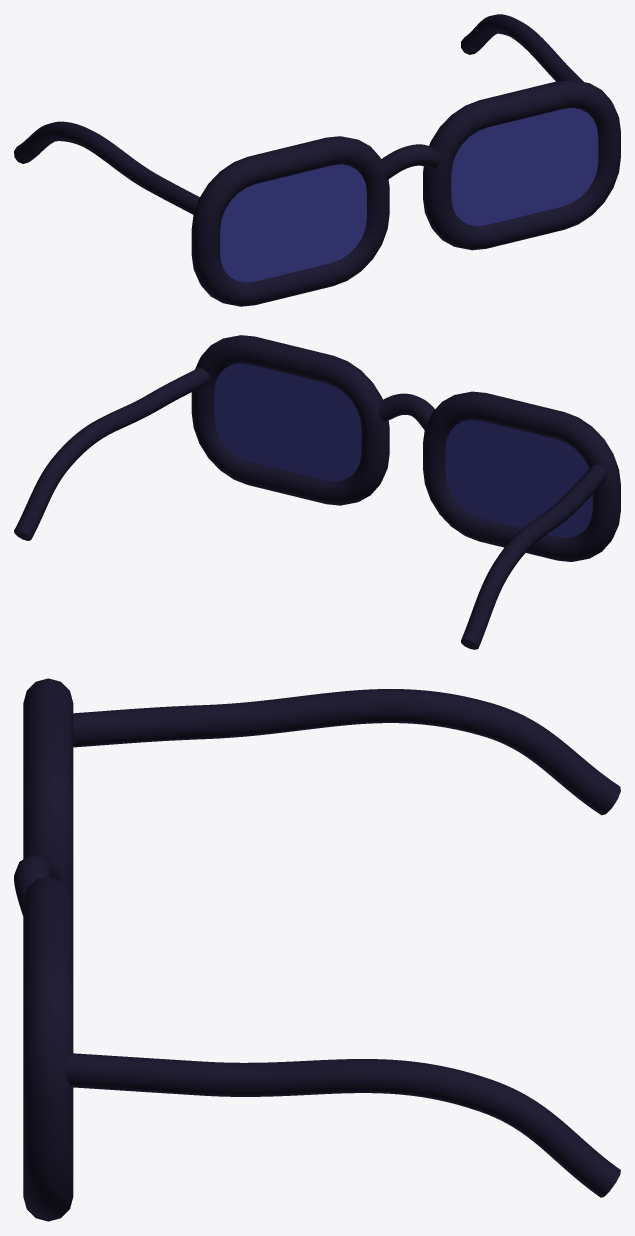
Rendered from glasses.glb.
3 renders of one model, top to bottom at view 1: azimuth 30°, elevation 25°; view 2: azimuth 150°, elevation 25°; view 3: azimuth 270°, elevation 25°, orthographic. The views are drawn at different scales.
Parts seen in each view (by area): view 1: bryle_ram_-1, bryle_sklo_1, bryle_sklo_-1, bryle_ram_1, bryle_straniceni_-1, bryle_straniceni_1, bryle_most; view 2: bryle_sklo_1, bryle_ram_1, bryle_ram_-1, bryle_sklo_-1, bryle_straniceni_1, bryle_straniceni_-1, bryle_most; view 3: bryle_straniceni_1, bryle_straniceni_-1, bryle_ram_1, bryle_ram_-1, bryle_most.
Part boxes in pixels (<box>): bryle_ram_-1: <box>191,136,389,306</box>; bryle_sklo_1: <box>451,108,598,226</box>; bryle_sklo_-1: <box>220,164,366,282</box>; bryle_ram_1: <box>423,79,620,250</box>; bryle_straniceni_-1: <box>14,121,199,214</box>; bryle_straniceni_1: <box>461,14,583,81</box>; bryle_most: <box>381,144,441,179</box>; bryle_sklo_1: <box>214,363,361,481</box>; bryle_ram_1: <box>191,335,389,505</box>; bryle_ram_-1: <box>423,391,620,561</box>; bryle_sklo_-1: <box>445,419,592,537</box>; bryle_straniceni_1: <box>14,367,211,540</box>; bryle_straniceni_-1: <box>461,464,607,649</box>; bryle_most: <box>378,393,434,429</box>; bryle_straniceni_1: <box>64,1053,620,1197</box>; bryle_straniceni_-1: <box>73,689,620,815</box>; bryle_ram_1: <box>23,876,73,1221</box>; bryle_ram_-1: <box>23,678,73,900</box>; bryle_most: <box>14,855,61,915</box>.
Bounding box in the file's own units: 0.6019 × 0.1819 × 0.3885.
